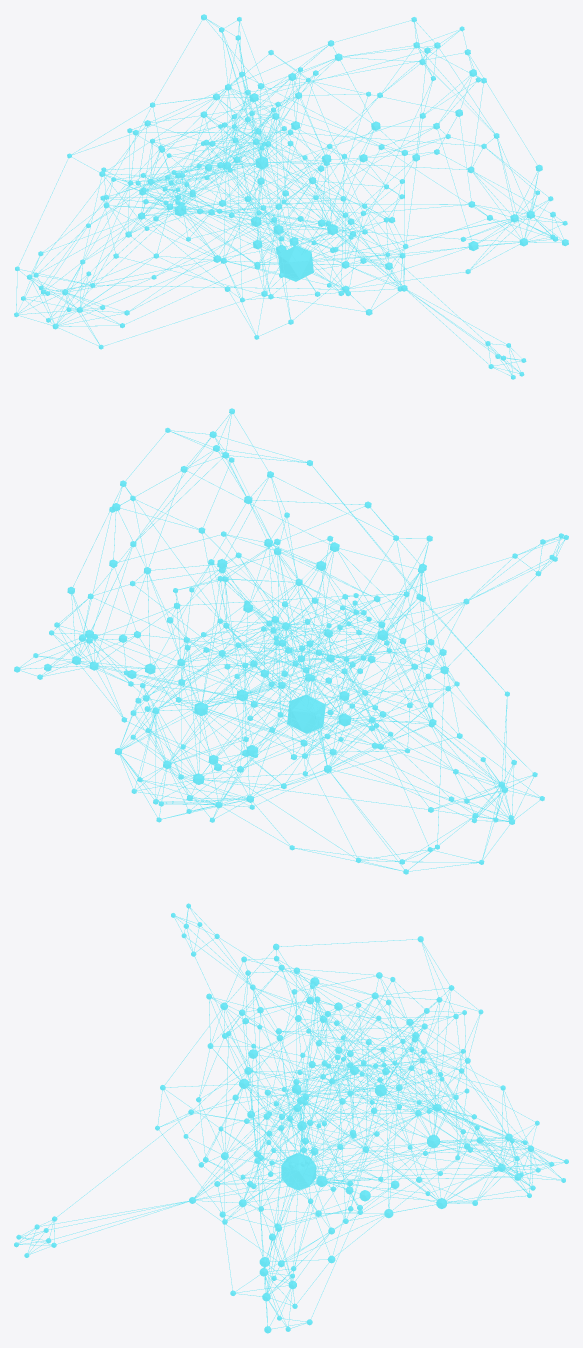
File: net.glb
The picture shows the model from 3 angles, top to bottom: view 1: azimuth 30°, elevation 25°; view 2: azimuth 150°, elevation 25°; view 3: azimuth 270°, elevation 25°; orthographic projection. The views are drawn at different scales.
Visible parts, largest first — view 1: Default; view 2: Default; view 3: Default.
Part boxes in pixels (box(x1,y1,x2,y2)): Default: box(14, 14, 568, 379); Default: box(14, 408, 568, 874); Default: box(14, 903, 568, 1333).
Size of the model in its own units: 11.23 by 6.52 by 10.53.
